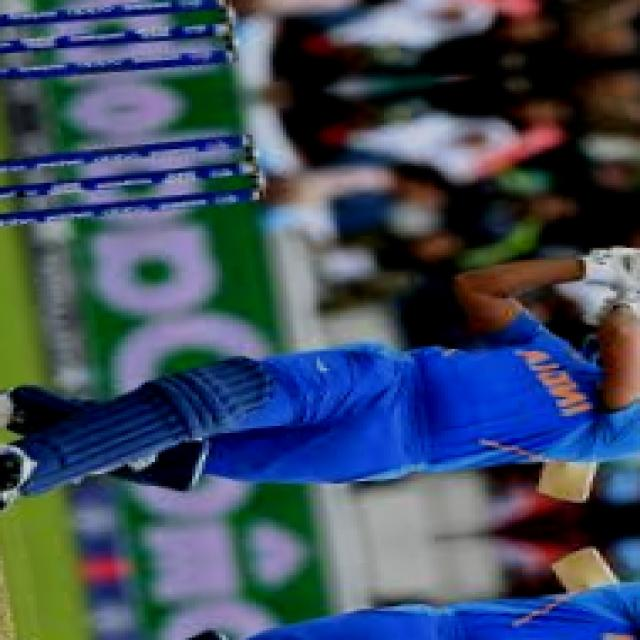toe: (536, 473, 586, 508)
